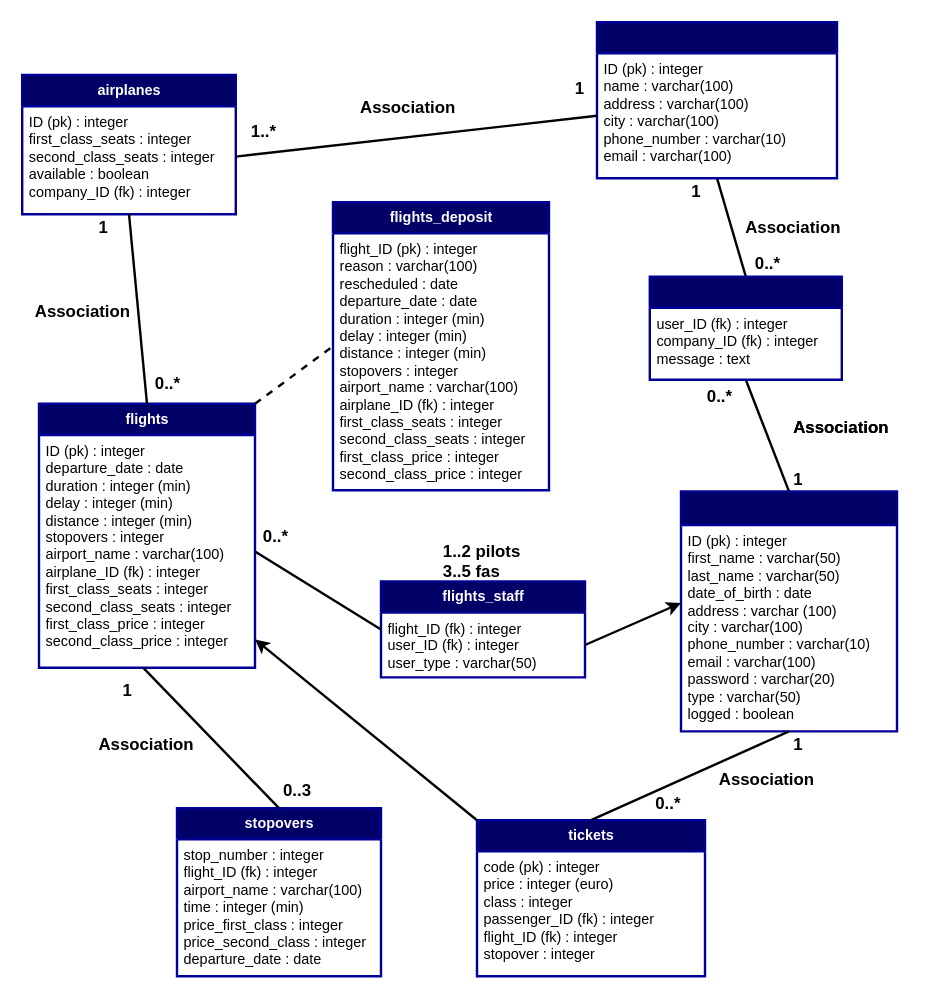
This 931x1000 diagram has some shape labels left out. The shapes that lost their labels are listed below. From the top down, each one's box as (x1, y1, x2, y2) in pixels, then its label:
(595, 20, 838, 179): companies
(648, 275, 842, 380): feedback
(679, 490, 898, 732): users
